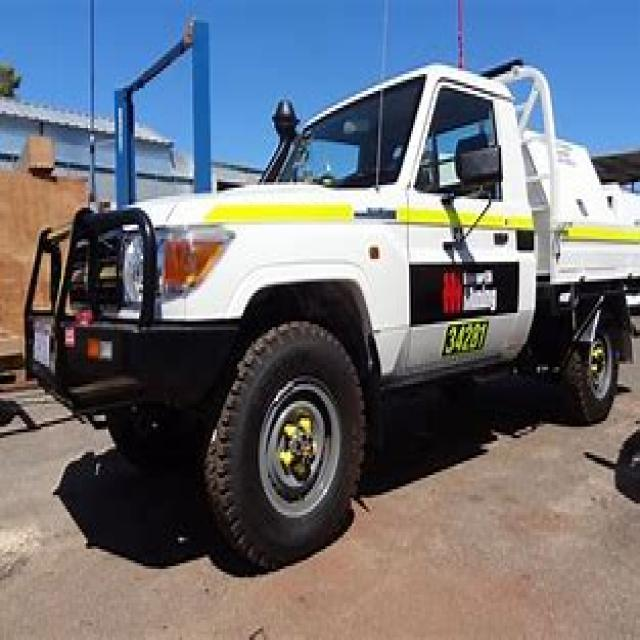light_vehicle: (29, 46, 638, 572)
